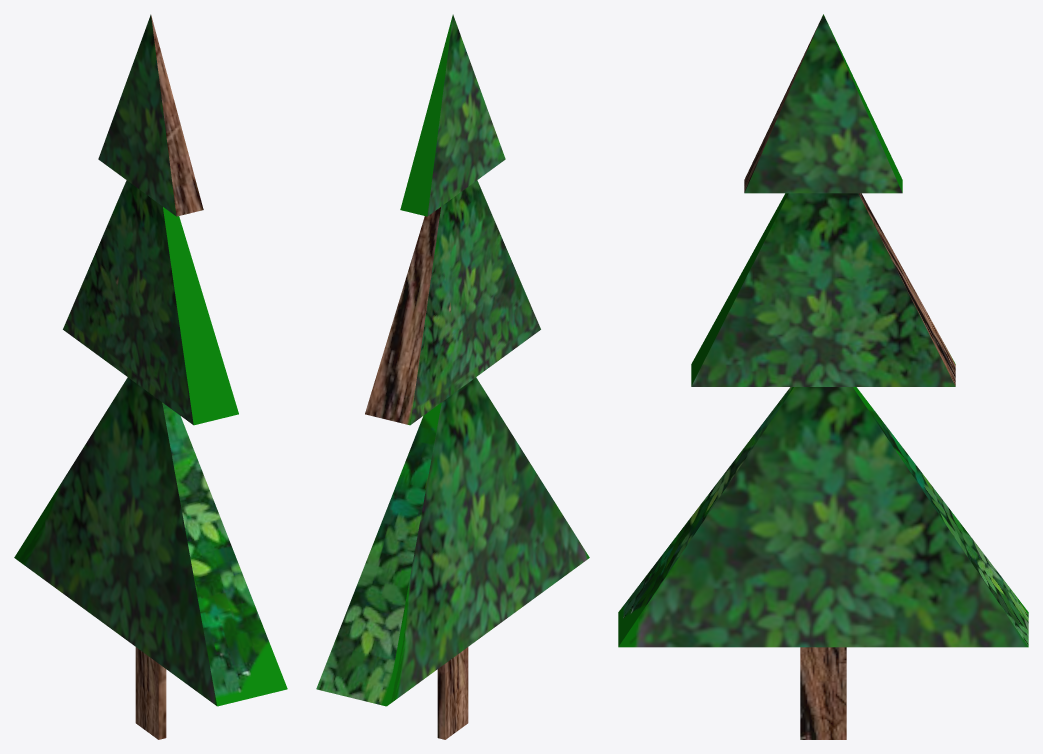
File: arvore2.obj
3 views of the same model, side by side, from view 1: azimuth 30°, elevation 25°; view 2: azimuth 150°, elevation 25°; view 3: azimuth 270°, elevation 25° (orthographic).
Parts seen in each view (by area): view 1: Cube.001; view 2: Cube.001; view 3: Cube.001.
Part boxes in pixels (bbox=[...]): Cube.001: bbox=[14, 14, 287, 739]; Cube.001: bbox=[316, 14, 589, 739]; Cube.001: bbox=[618, 14, 1028, 739].
Size of the model in its own units: 0.4109 by 3.99 by 2.05.
Materials: 1 (1 with a texture image).
